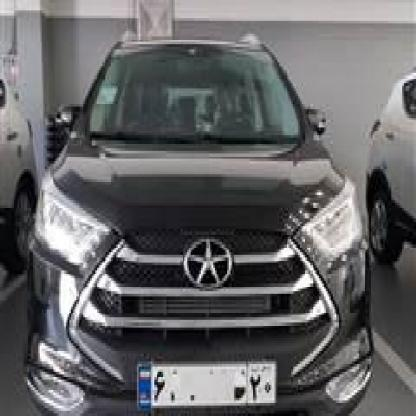Car: (28, 21, 378, 416), (353, 52, 416, 285), (0, 62, 38, 281)
